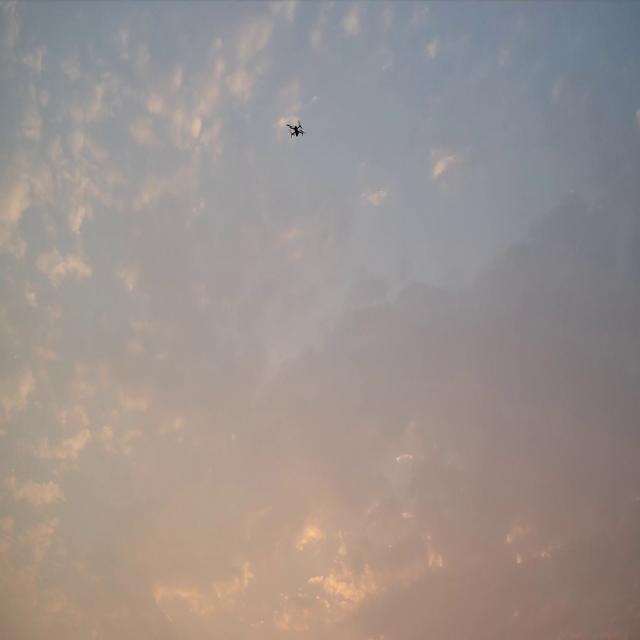UAV: (286, 120, 307, 138)
